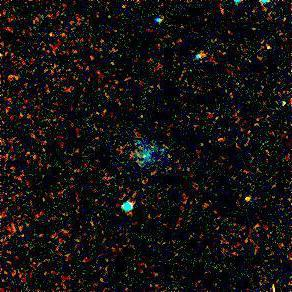star: (233, 186, 263, 216)
